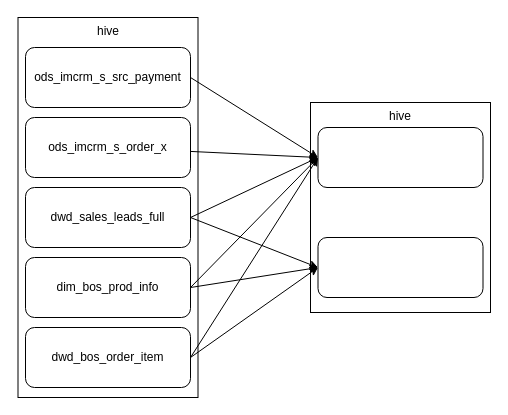
Some shapes in this 508 by 415 pixel diagram are drawn without their labels. The centre of each missing label's shape, as x and y in pixels:
ads_imout_order_analysis: (x=400, y=157)
ads_imout_sales_leads_full: (x=400, y=267)
